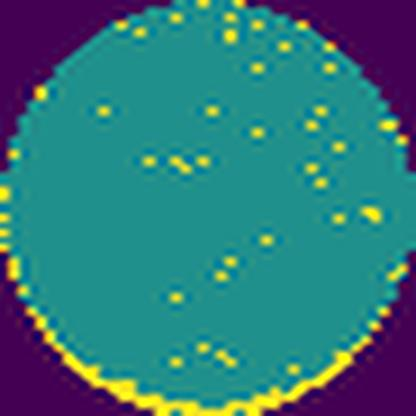Edge-Ring: (0, 172, 416, 416)
